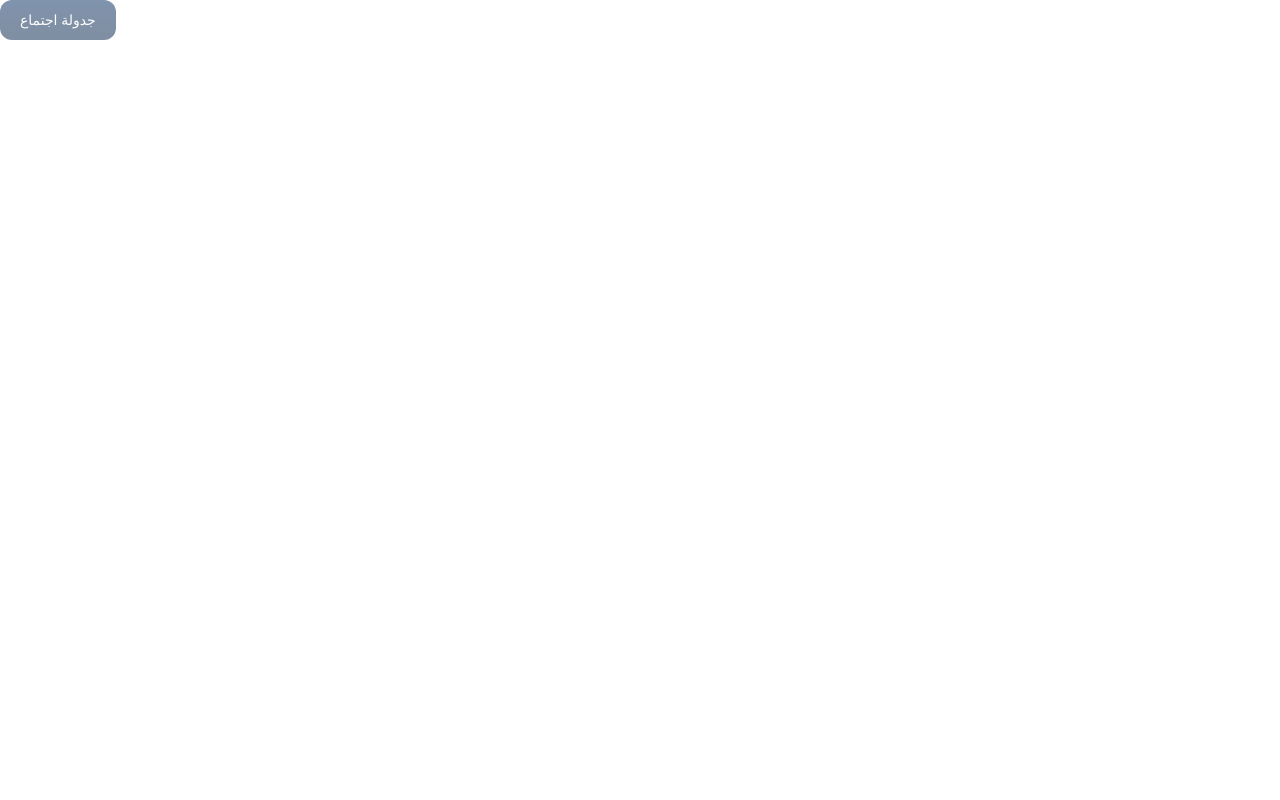
Test: Button with a blocked reason › Arabic: reason in Arabic and the panel is right-to-left
This screenshot has width=1280, height=800.
What coordinates should you click on to do the following:
click the button
I would click on:
 (58, 20)
Its box is [0,0,116,40].
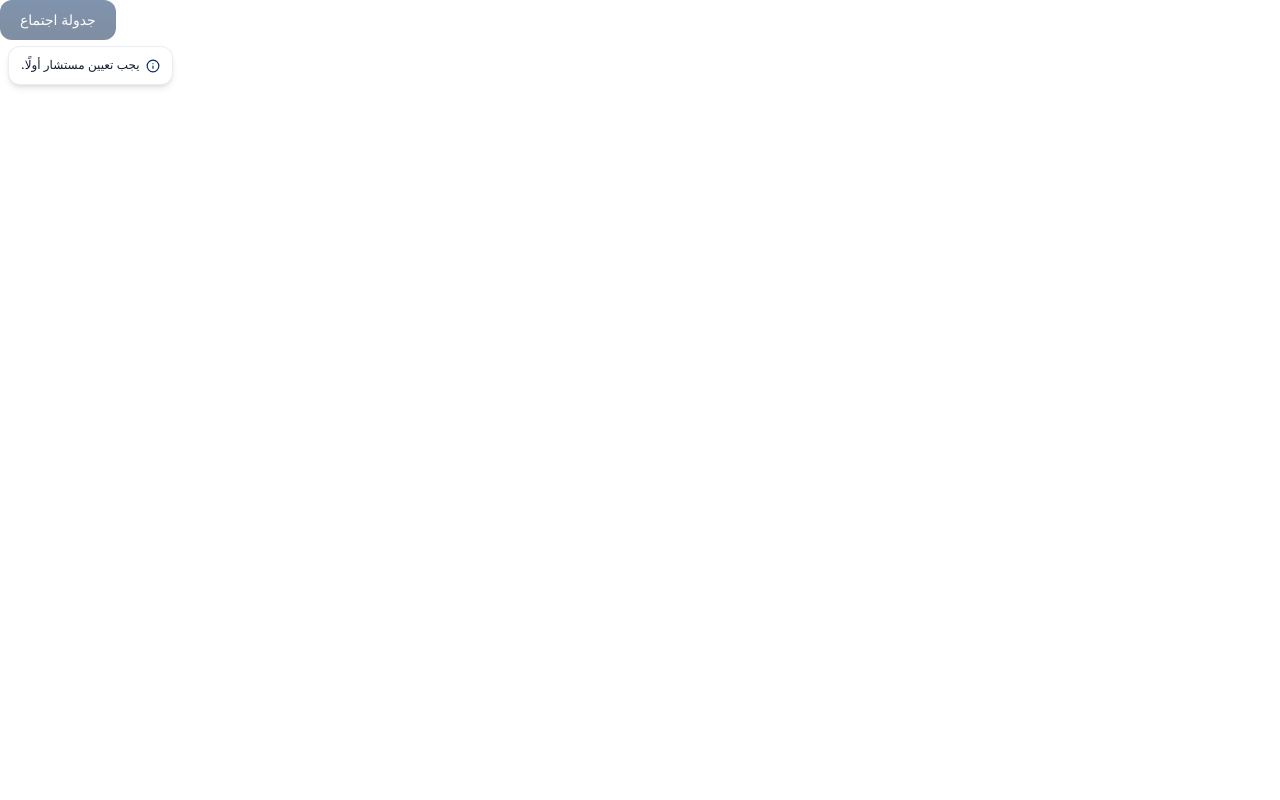
Check: the dialog with test id "blocked-popover" reads "يجب تعيين مستشار أولًا.", box [21,57,140,72]
